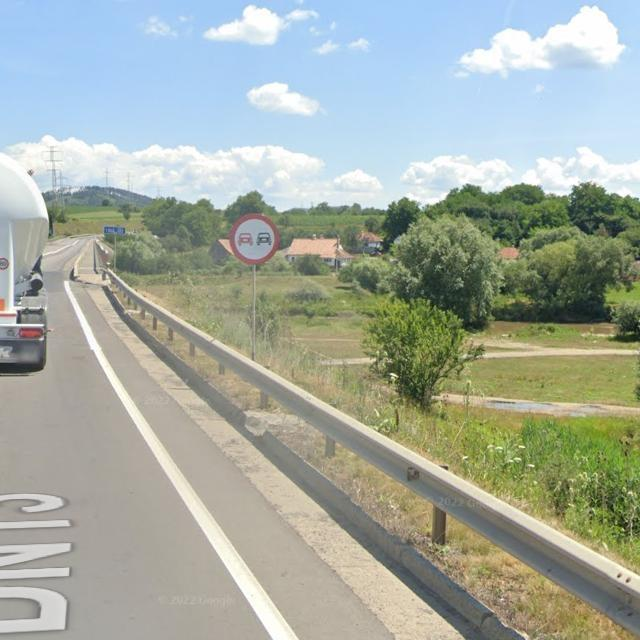forb_overtake: (229, 213, 278, 264)
